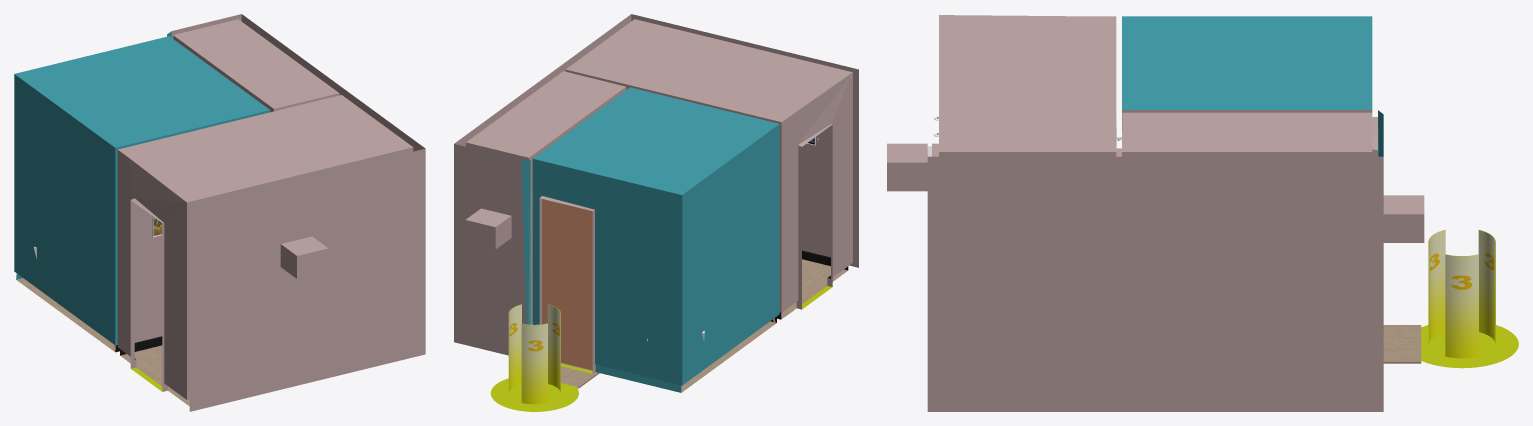
Rendered from room3.dae.
The picture shows the model from 3 angles, left to right: view 1: azimuth 30°, elevation 25°; view 2: azimuth 150°, elevation 25°; view 3: azimuth 270°, elevation 25°; orthographic projection. The views are drawn at different scales.
Parts seen in each view (by area): view 1: room11, floor; view 2: room11, Porte, goal3, floor_porte, floor; view 3: room11, goal3, floor_porte.
Boxes of the visible parts, <box> form: room11: <box>14,14,425,411</box>; floor: <box>18,278,171,390</box>; room11: <box>454,14,858,392</box>; Porte: <box>542,199,599,370</box>; goal3: <box>490,304,578,411</box>; floor_porte: <box>561,366,599,388</box>; floor: <box>563,279,825,390</box>; room11: <box>887,15,1424,411</box>; goal3: <box>1421,230,1518,368</box>; floor_porte: <box>1383,325,1421,363</box>.
Bounding box in the file's own units: 300 × 252 × 561.
27 materials, 9 textured.
